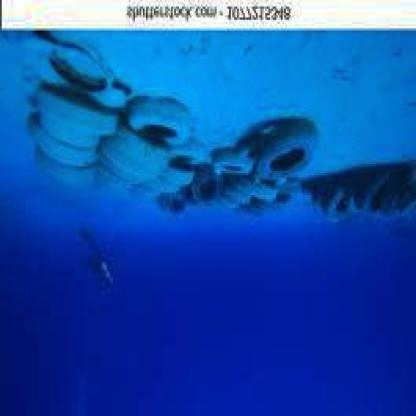tire: (237, 98, 323, 192), (41, 39, 129, 125), (116, 90, 196, 155), (178, 155, 246, 212), (317, 171, 358, 228), (207, 145, 261, 178)
